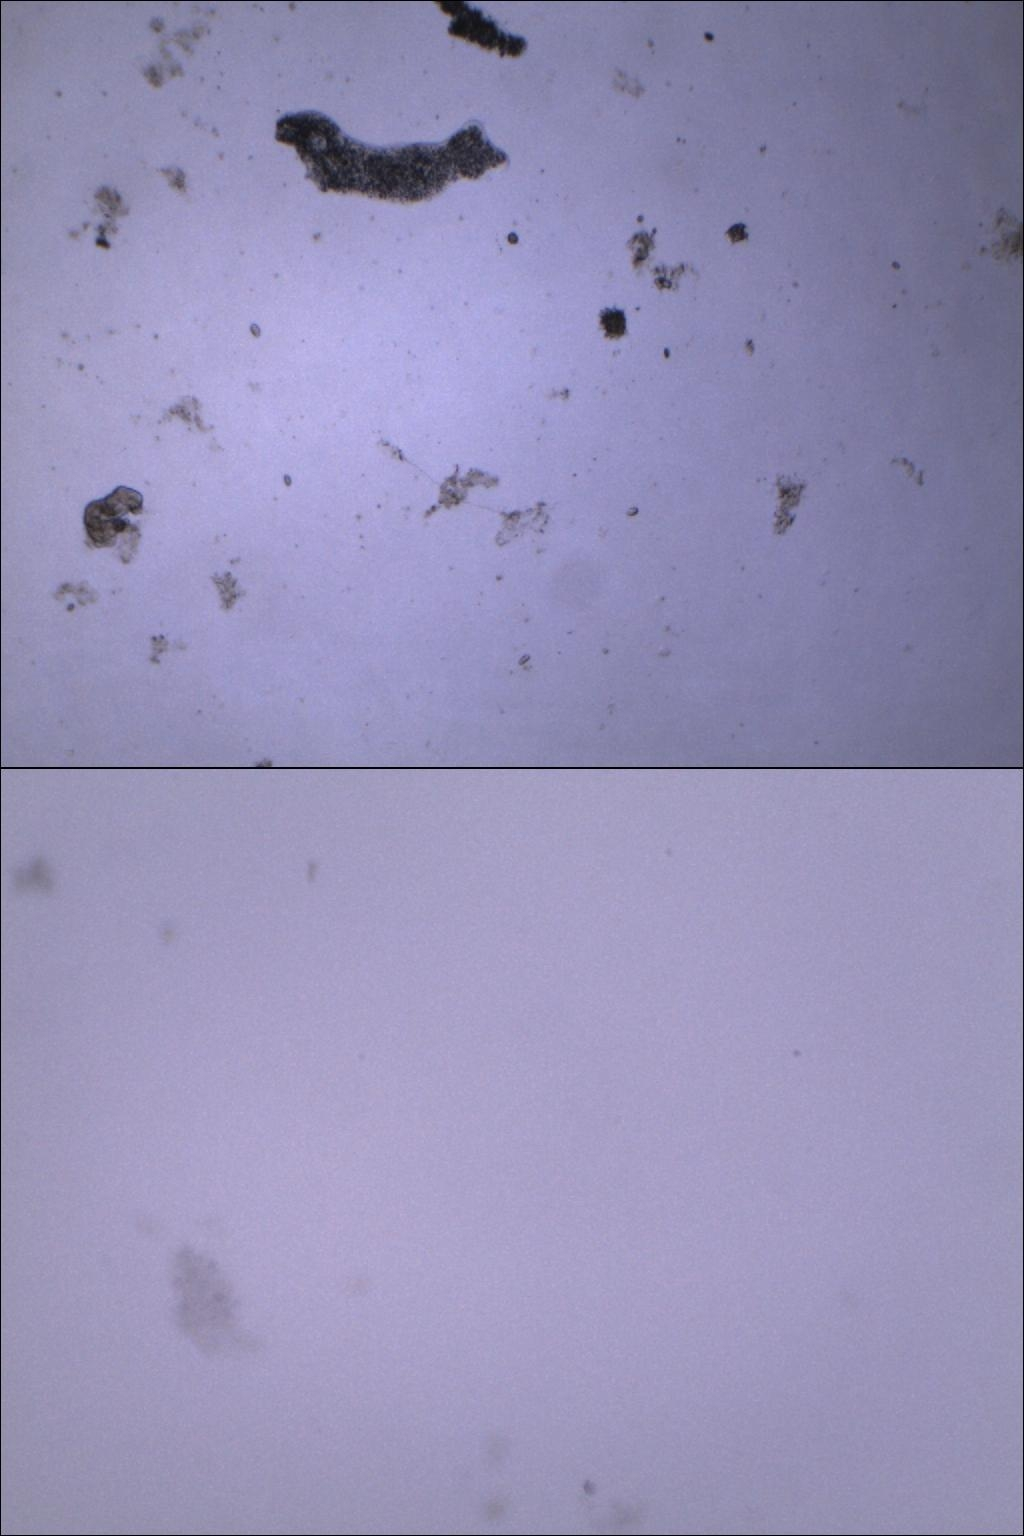N.Fowleri Amoeba: (145, 1226, 283, 1387)
Proteus Amoeba: (263, 101, 528, 223)
